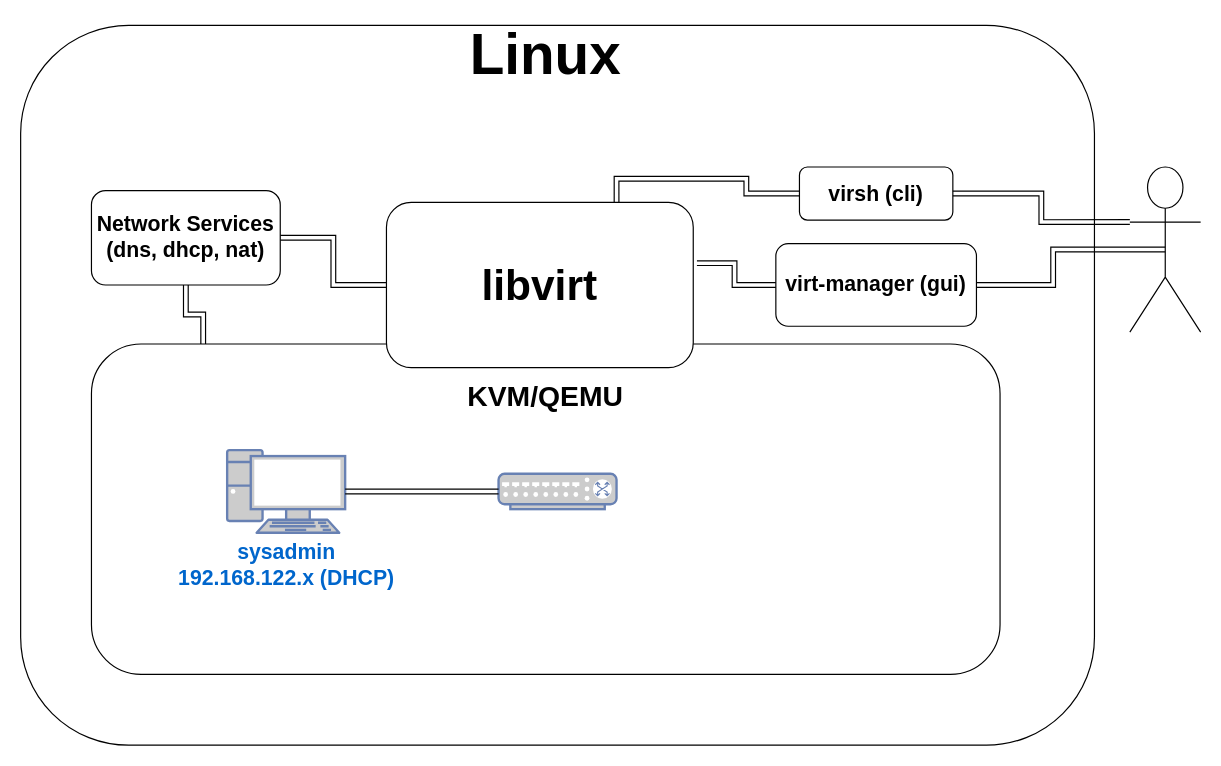
The diagram is 1221 pixels wide and 766 high, and some of its shapes have lost their labels. Here are the shapes that lost their labels. From the top down, the centre of each, then its label:
the point at 1165,249: ME
the point at 557,491: default (virbr0) 192.168.122.1
